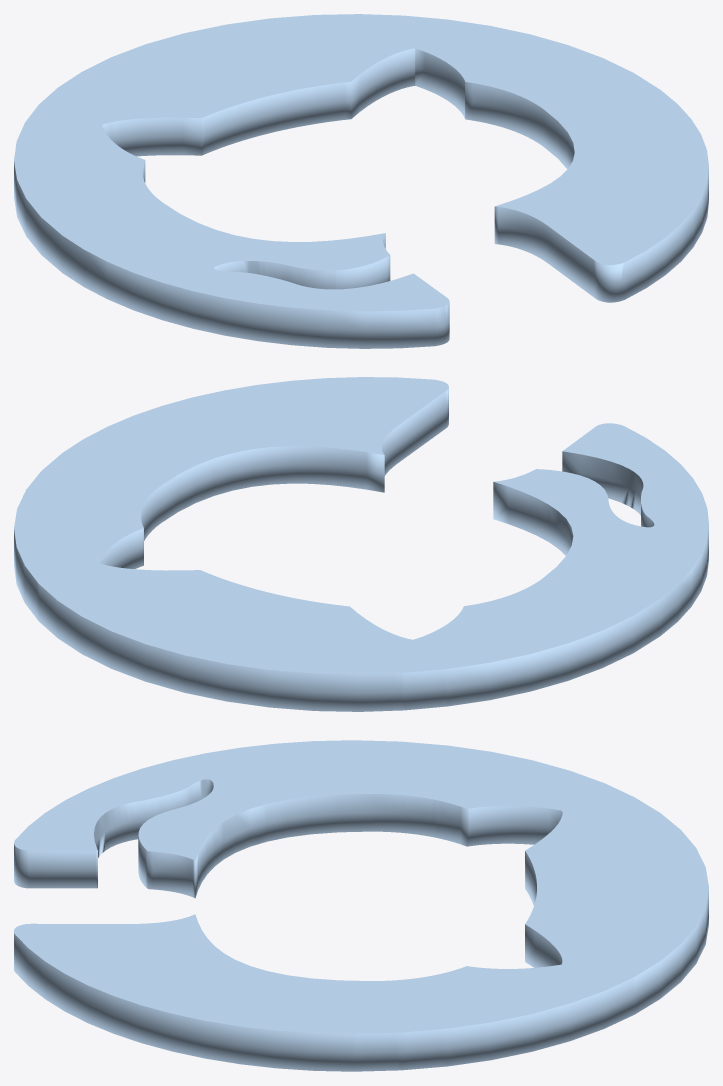
Rendered from Github.gltf.
The picture shows the model from 3 angles, top to bottom: view 1: azimuth 30°, elevation 25°; view 2: azimuth 150°, elevation 25°; view 3: azimuth 270°, elevation 25°; orthographic projection.
Parts seen in each view (by area): view 1: Curve; view 2: Curve; view 3: Curve.
Part boxes in pixels (bbox=[...]): Curve: bbox=[14, 14, 708, 348]; Curve: bbox=[14, 377, 708, 711]; Curve: bbox=[14, 740, 708, 1071].
Size of the model in its own units: 0.5 by 0.03 by 0.5.
